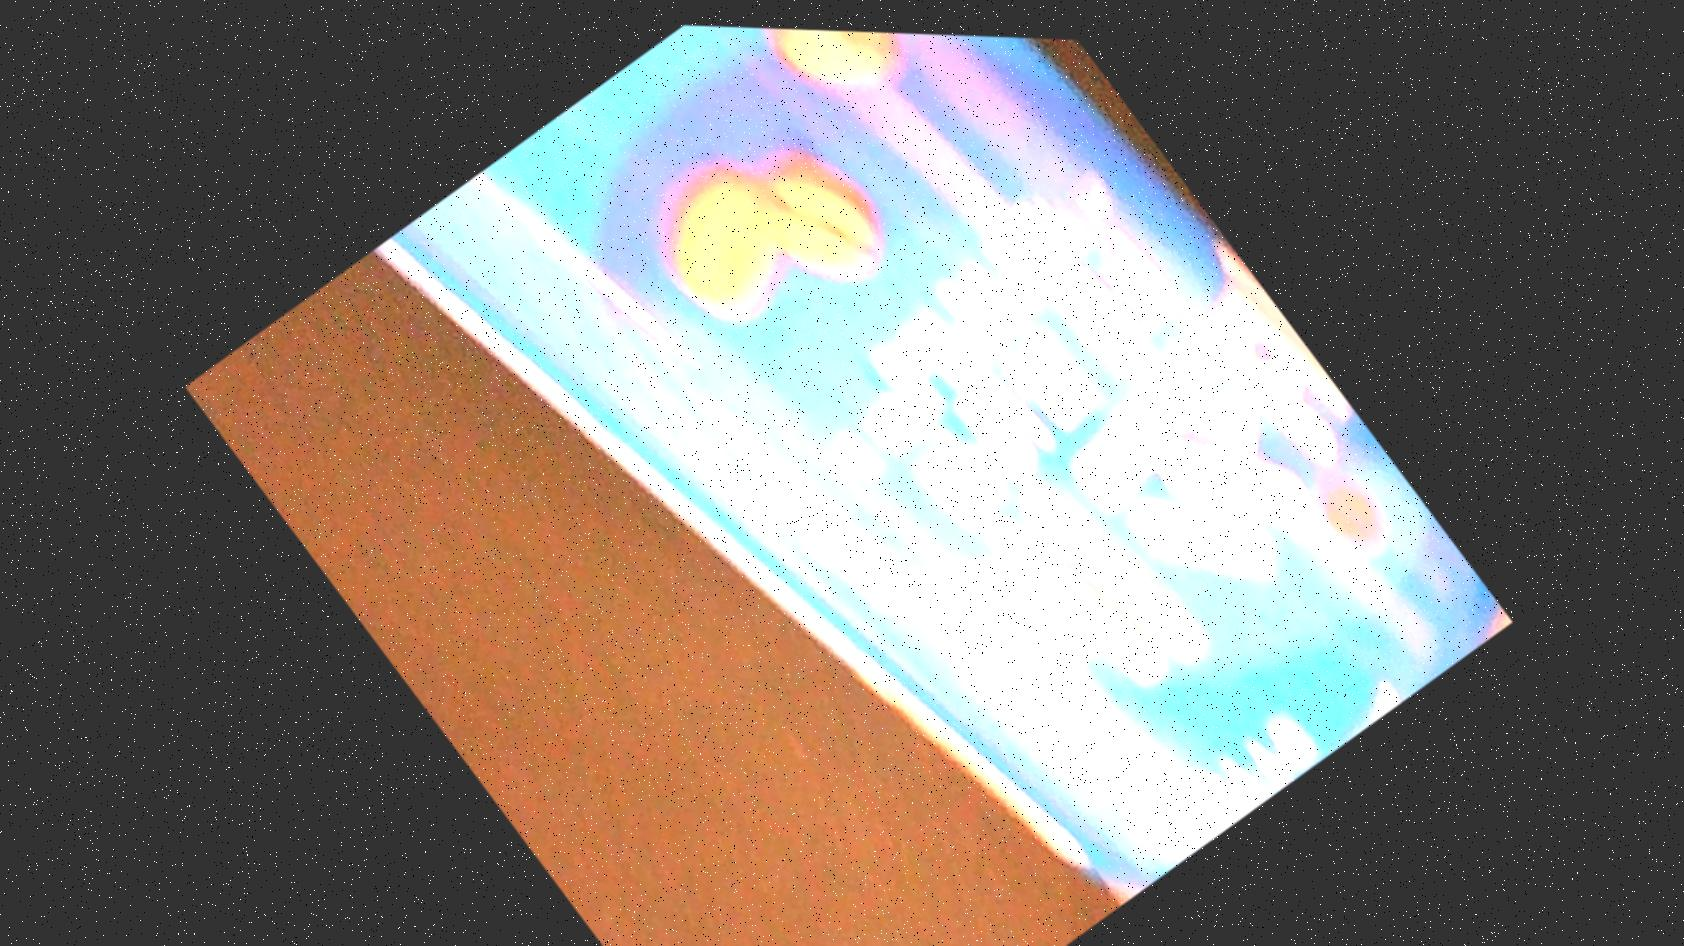letsbe: (353, 10, 1515, 946)
